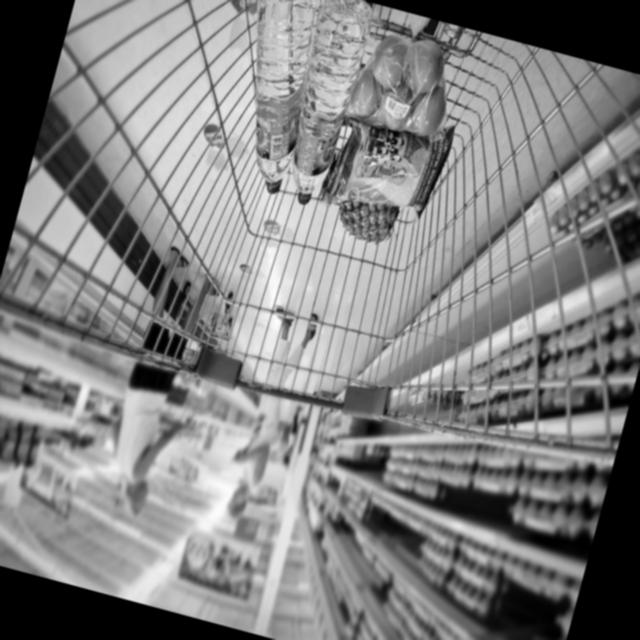dua: (308, 150, 410, 253)
tao: (344, 28, 467, 148)
